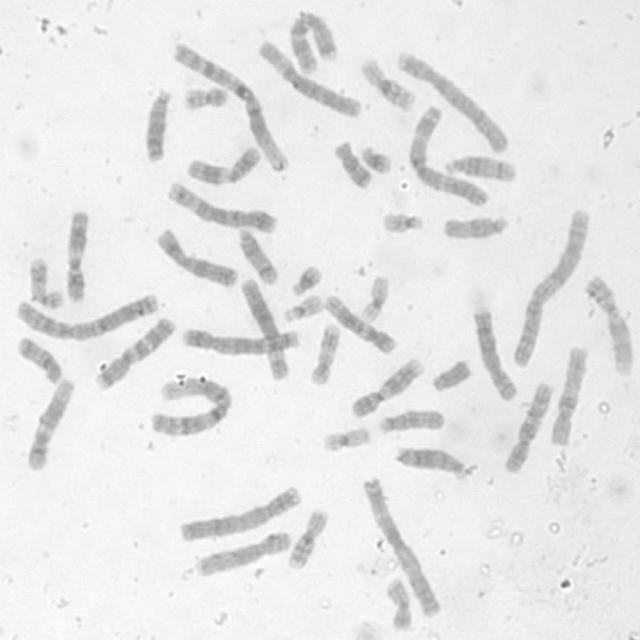A1: (170, 39, 288, 175), (148, 374, 232, 439)
A2: (508, 204, 593, 370), (12, 290, 162, 342)
A3: (358, 472, 444, 620), (405, 103, 490, 207)
B4: (392, 47, 513, 155), (175, 484, 303, 544)
B5: (163, 176, 279, 235), (178, 323, 304, 356)
C10: (502, 379, 555, 475), (547, 342, 589, 446)
C11: (184, 142, 262, 186), (62, 206, 92, 305)
C12: (23, 374, 75, 472), (320, 291, 398, 356)
C6: (254, 36, 364, 119), (236, 274, 291, 382)
C7: (91, 312, 178, 392), (285, 8, 340, 74)
C8: (469, 302, 520, 403), (194, 528, 294, 578)
C9: (581, 271, 635, 376), (347, 354, 426, 419)
D13: (392, 443, 468, 482), (142, 85, 172, 165)
D14: (235, 223, 280, 285), (440, 152, 518, 184)
D15: (440, 212, 511, 242), (375, 406, 446, 436)
E16: (357, 55, 418, 113), (284, 505, 329, 571)
E17: (307, 320, 341, 387), (26, 253, 65, 310)
E18: (14, 333, 64, 385), (331, 138, 374, 190)
F19: (357, 272, 391, 324), (320, 424, 372, 454)
F20: (382, 574, 414, 632), (180, 82, 229, 111)
G21: (288, 261, 324, 298), (357, 141, 393, 175)
G22: (280, 291, 324, 324), (379, 209, 424, 234)
X: (154, 225, 240, 289)
Y: (428, 356, 472, 394)
